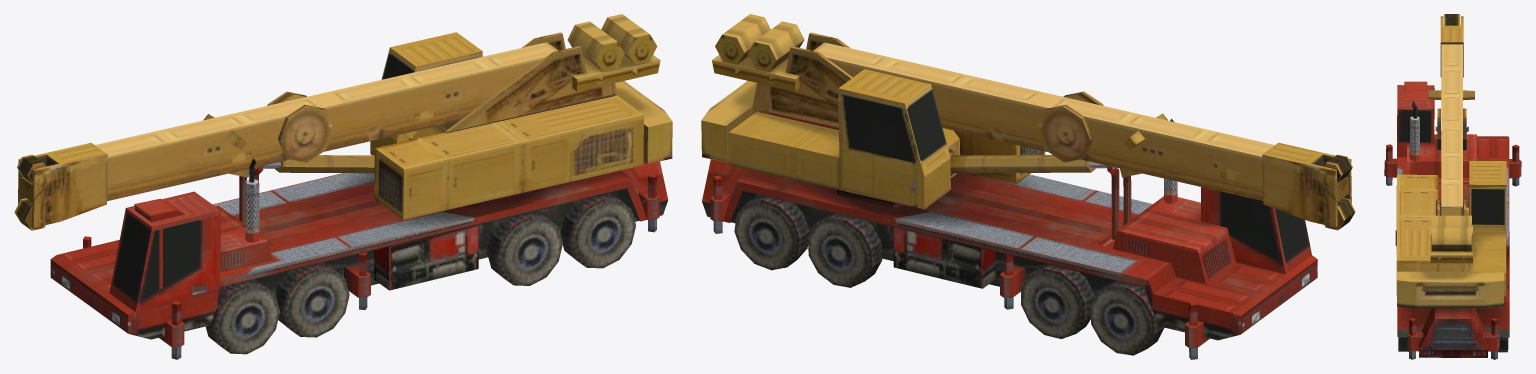
File: turck.fbx
The picture shows the model from 3 angles, left to right: view 1: azimuth 30°, elevation 25°; view 2: azimuth 150°, elevation 25°; view 3: azimuth 270°, elevation 25°; orthographic projection. The views are drawn at different scales.
Parts seen in each view (by area): view 1: turck; view 2: turck; view 3: turck.
Boxes of the visible parts, left/top/right/bottom form: turck: left=14, top=14, right=672, bottom=359; turck: left=701, top=14, right=1355, bottom=359; turck: left=1384, top=14, right=1521, bottom=359.
Size of the model in its own units: 1026 by 331 by 275.
